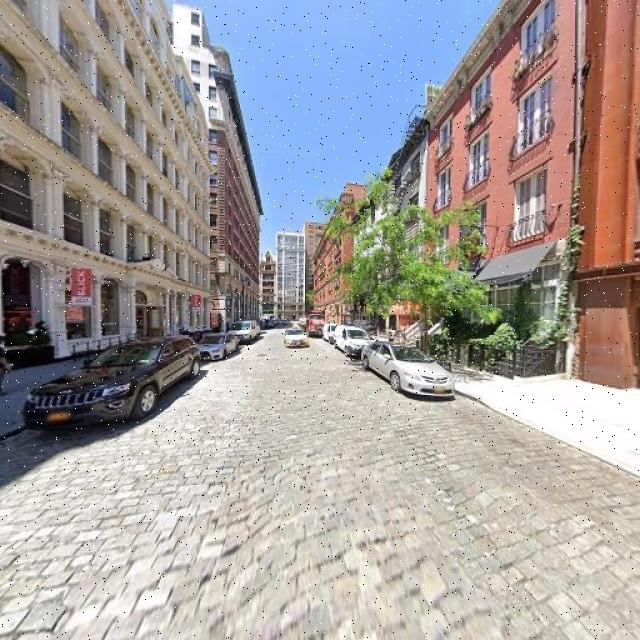Building: (1, 1, 208, 374), (427, 1, 575, 380), (583, 1, 640, 395)
